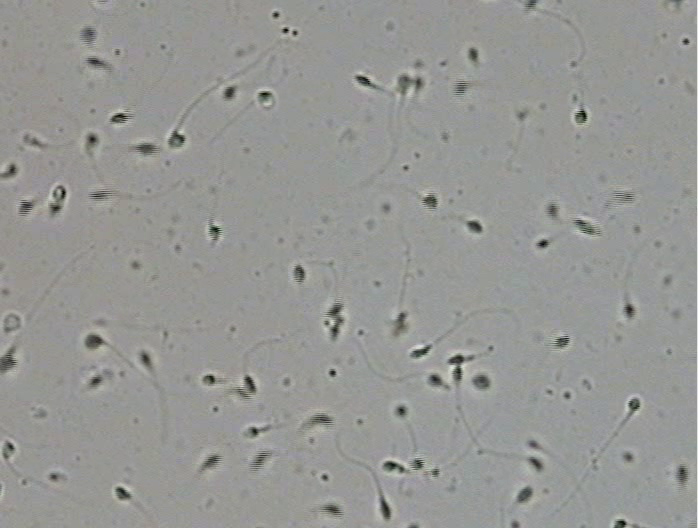S: (324, 303, 344, 339), (573, 218, 601, 236), (249, 451, 269, 472), (409, 344, 433, 359), (79, 26, 97, 45), (320, 504, 344, 518), (167, 131, 186, 148), (1, 353, 18, 372), (310, 413, 333, 427), (392, 312, 408, 332), (201, 454, 222, 469), (421, 193, 438, 211), (85, 57, 108, 70), (136, 142, 159, 155), (85, 334, 103, 350), (613, 190, 634, 203), (243, 375, 257, 394), (379, 498, 391, 520), (293, 264, 306, 284), (676, 464, 689, 484), (517, 486, 533, 502), (18, 199, 33, 216), (109, 112, 130, 124), (208, 223, 222, 241), (232, 387, 250, 401), (472, 374, 488, 389), (466, 220, 483, 234), (114, 487, 132, 500), (354, 74, 372, 87), (89, 190, 112, 200), (553, 334, 569, 348), (545, 201, 559, 217), (452, 80, 466, 96), (52, 185, 66, 201), (408, 458, 425, 471), (398, 75, 411, 92), (2, 441, 14, 459), (574, 109, 588, 124), (243, 426, 259, 439), (529, 456, 542, 471), (622, 303, 635, 318), (452, 365, 463, 382), (85, 133, 98, 147), (427, 374, 441, 387), (223, 85, 235, 100), (447, 355, 465, 365), (48, 203, 62, 215), (139, 352, 151, 366), (394, 405, 407, 417), (628, 398, 640, 411), (6, 163, 17, 177), (382, 461, 396, 472), (257, 91, 272, 101), (89, 376, 102, 387), (468, 48, 479, 61), (414, 77, 424, 91), (203, 375, 215, 386), (536, 239, 549, 249), (613, 519, 627, 528), (527, 439, 540, 448), (524, 1, 537, 10)
